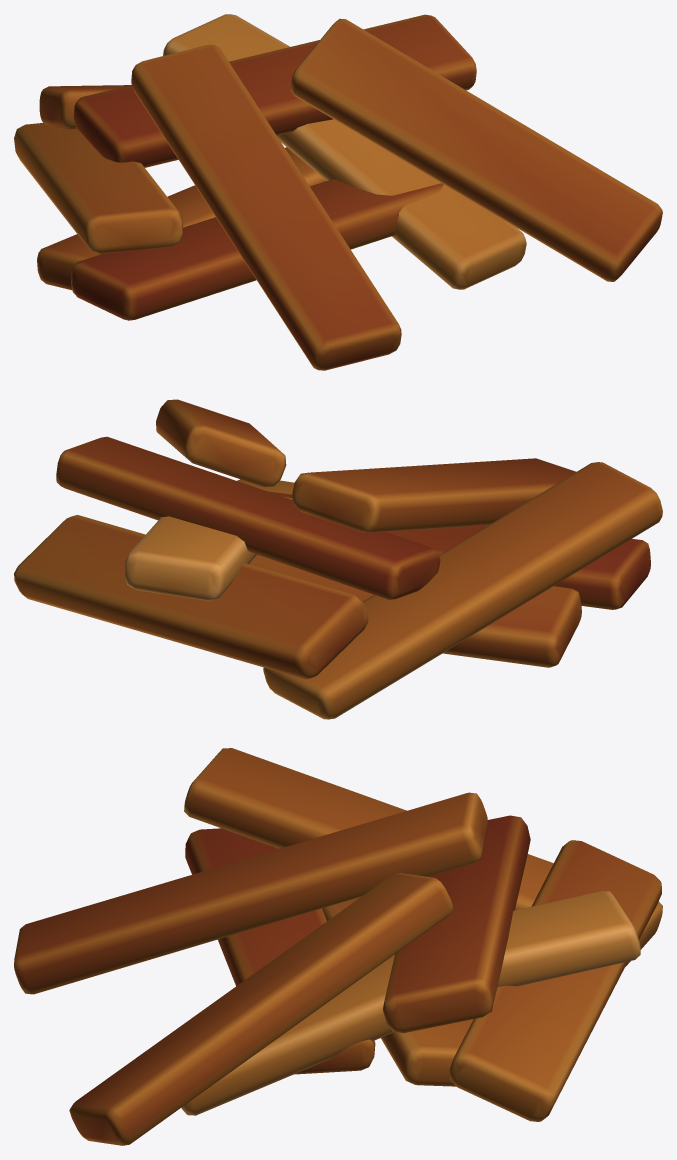
Rendered from SM_planks_001.fbx.
3 views of the same model, one above another, from view 1: azimuth 30°, elevation 25°; view 2: azimuth 150°, elevation 25°; view 3: azimuth 270°, elevation 25° (orthographic). The views are drawn at different scales.
Visible parts, largest first — view 1: SM_planks_001; view 2: SM_planks_001; view 3: SM_planks_001.
Boxes of the visible parts, x1,y1,x2,y2 form: SM_planks_001: (14, 14, 662, 370); SM_planks_001: (14, 399, 662, 719); SM_planks_001: (14, 748, 662, 1145).
Bounding box in the file's own units: 196 × 64.94 × 187.
